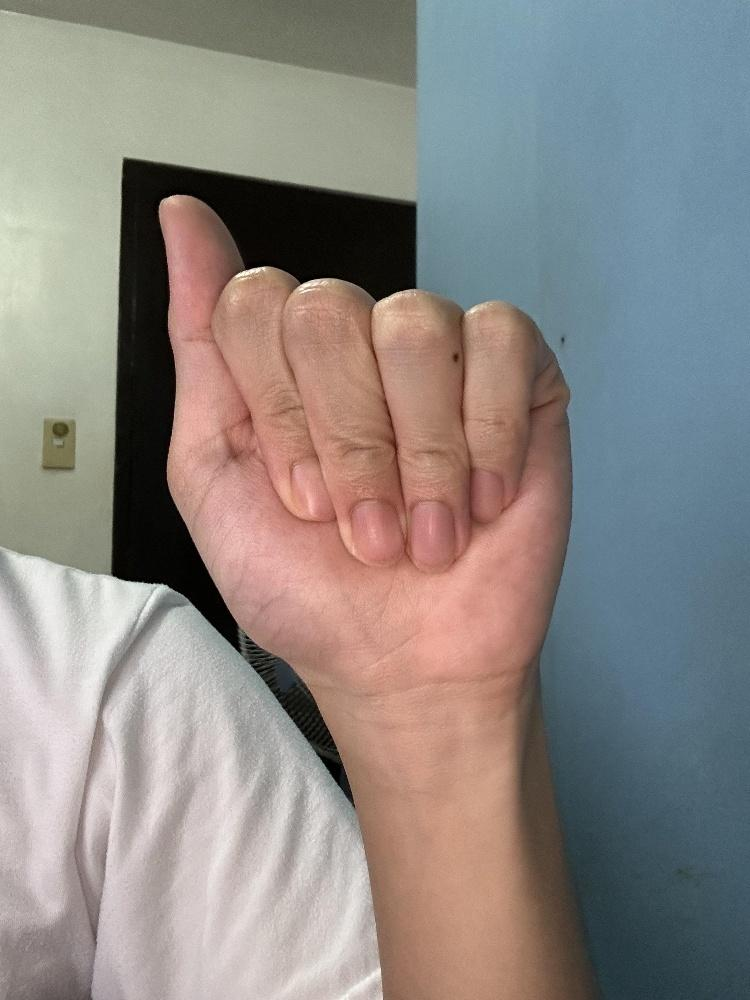a: (153, 187, 575, 689)
